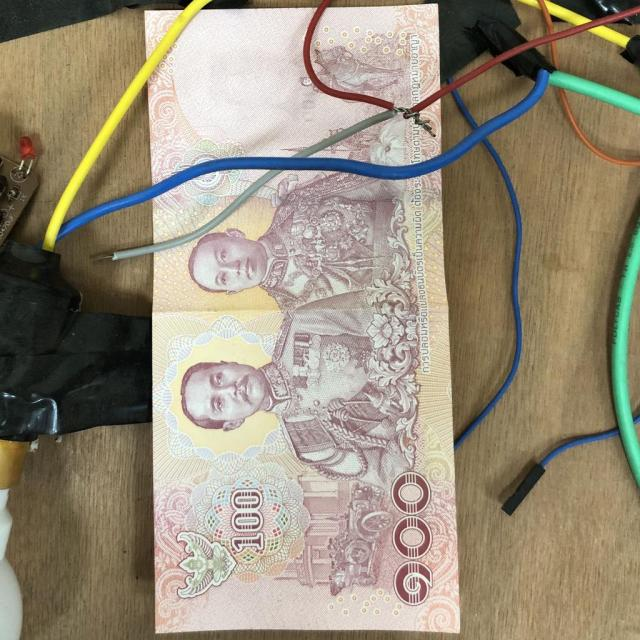THAI100: (153, 169, 464, 636), (147, 0, 536, 182)
